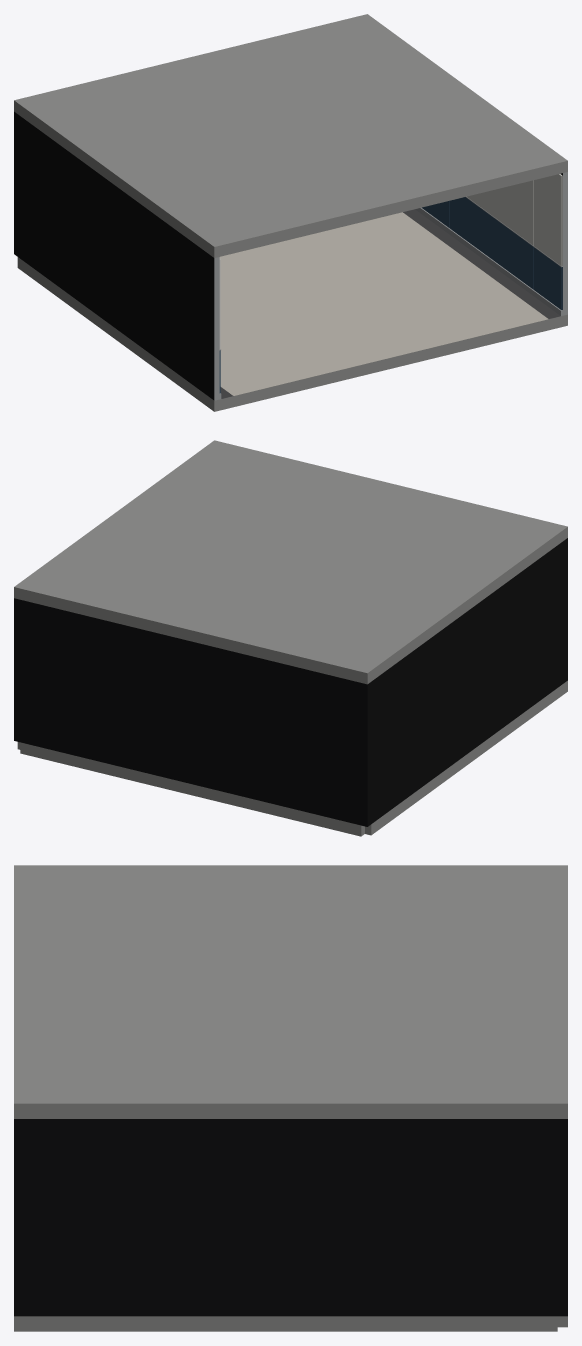
The model's file is gteki_passage_end_w8.glb.
3 renders of one model, top to bottom at view 1: azimuth 30°, elevation 25°; view 2: azimuth 150°, elevation 25°; view 3: azimuth 270°, elevation 25°, orthographic. The views are drawn at different scales.
Visible parts, largest first — view 1: VIS_body; view 2: VIS_body; view 3: VIS_body.
Part boxes in pixels (x1,y1,x2,y2): VIS_body: (14,14,567,411); VIS_body: (14,440,567,836); VIS_body: (14,865,567,1331).
Size of what is drawn, in the model's own units: 8.3 by 3.7 by 8.15.
Materials: 1 (1 with a texture image).
